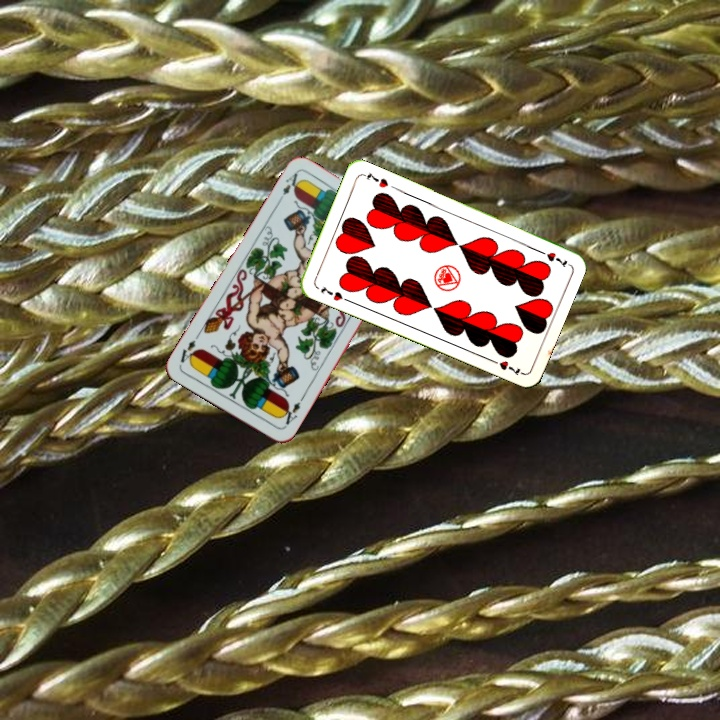EA: (277, 398, 303, 430), (279, 169, 304, 197)
H7: (533, 245, 570, 269), (317, 281, 352, 304)
